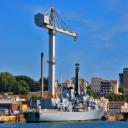Fragata: (24, 61, 106, 124)
